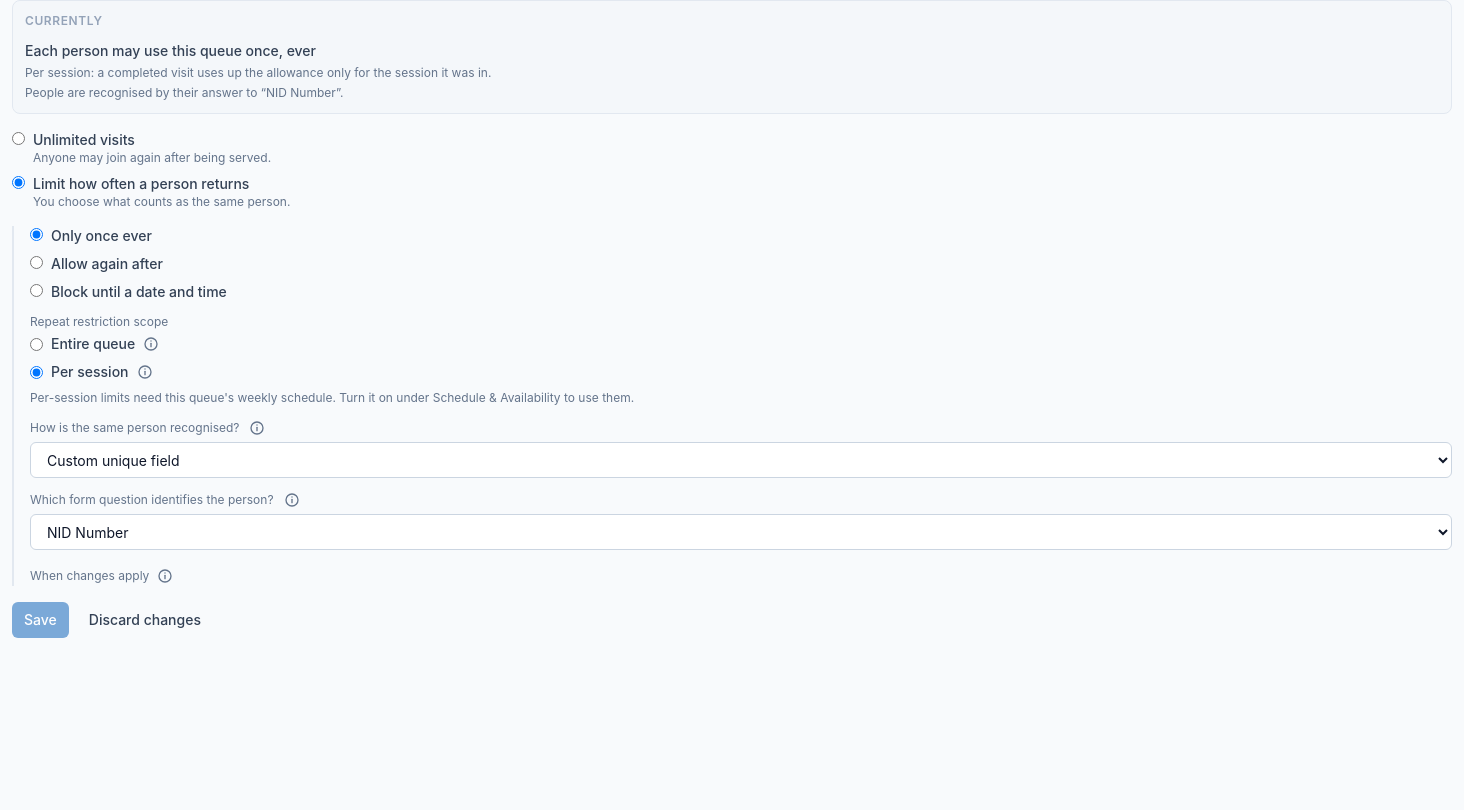
Test: RepeatVisitPolicy — repeat restriction scope (ADR-049) › blocks saving a per-session limit once the schedule has been turned off
Expected: the button "Save" is disabled, [12,602,69,638]
Click the radio button labelled "Entire queue" at (36, 344), box [30,338,43,350]
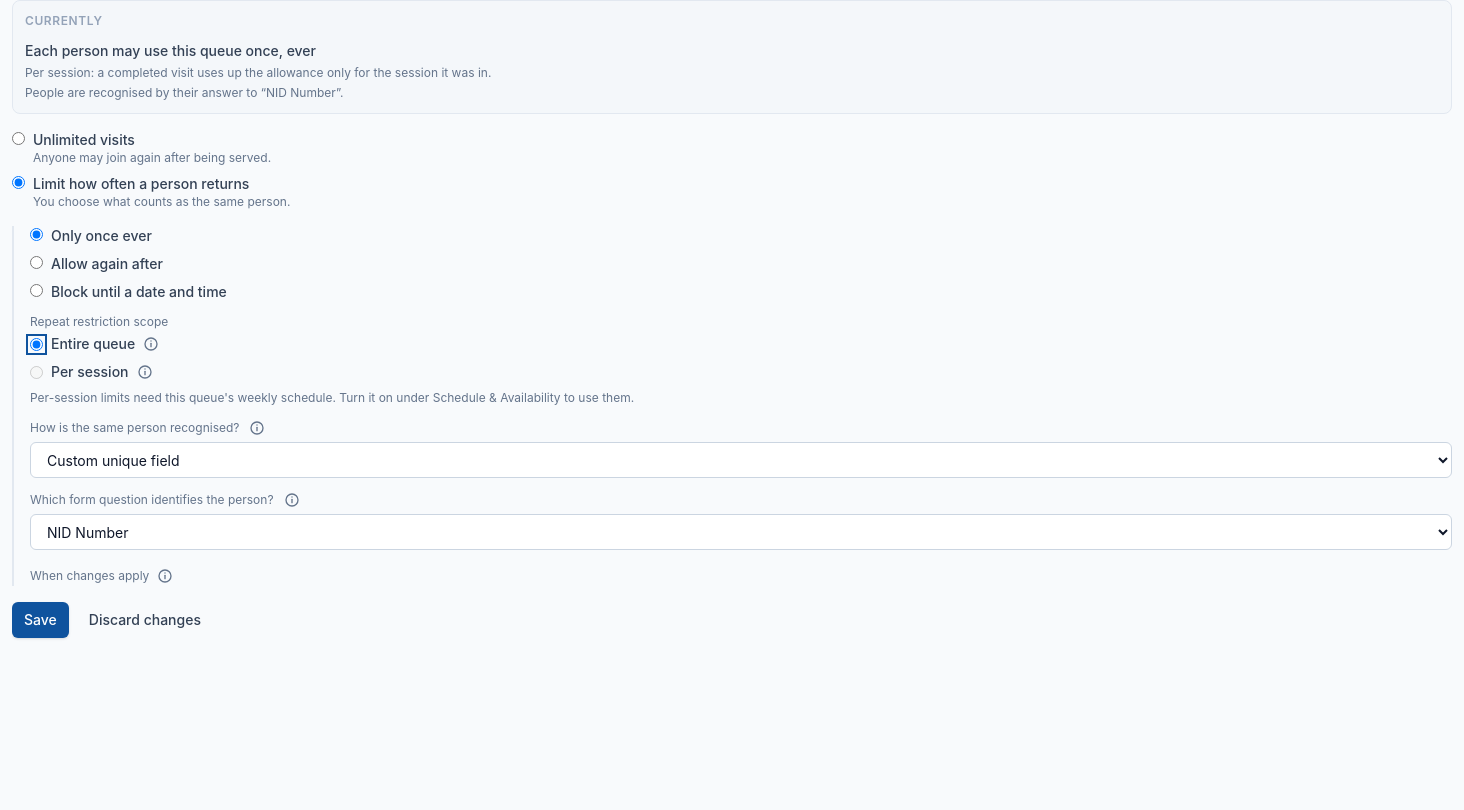
Expected: the button "Save" is enabled, [12,602,69,638]
